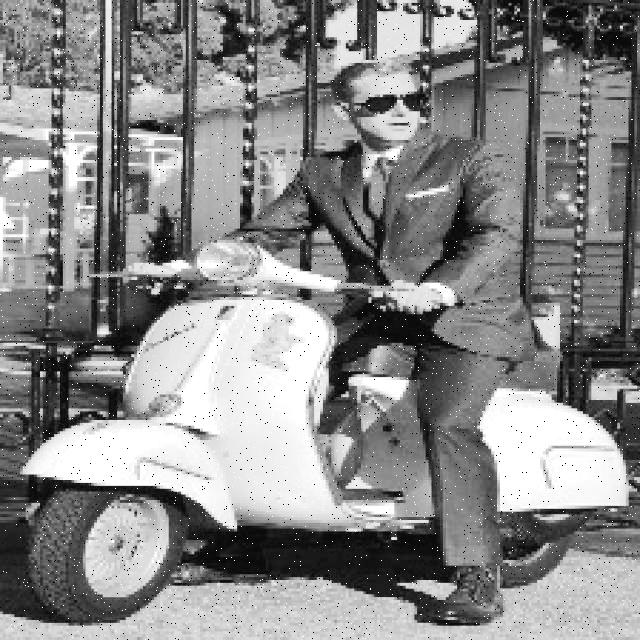Bike: (32, 265, 622, 614)
